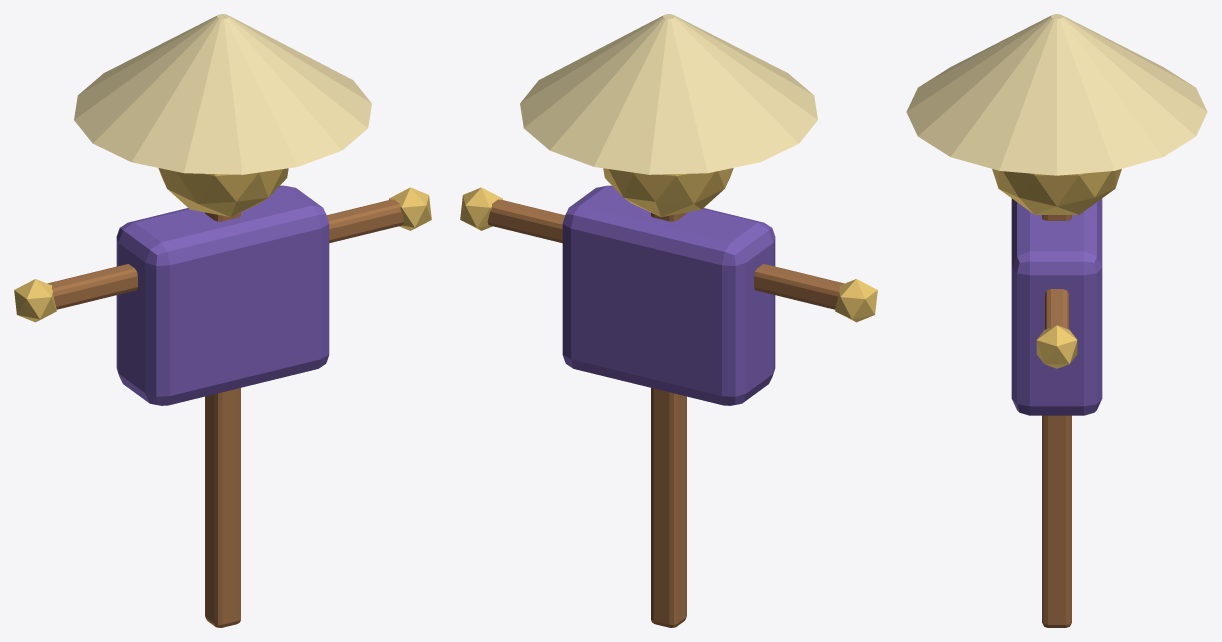
Rendered from bu-nhin.glb.
3 views of the same model, side by side, from view 1: azimuth 30°, elevation 25°; view 2: azimuth 150°, elevation 25°; view 3: azimuth 270°, elevation 25° (orthographic).
Parts seen in each view (by area): view 1: bu-nhin-2, bu-nhin-6, bu-nhin-0, bu-nhin-1, bu-nhin-5, bu-nhin-3, bu-nhin-4; view 2: bu-nhin-2, bu-nhin-6, bu-nhin-0, bu-nhin-1, bu-nhin-5, bu-nhin-3, bu-nhin-4; view 3: bu-nhin-6, bu-nhin-2, bu-nhin-0, bu-nhin-5, bu-nhin-4, bu-nhin-1.
Boxes of the visible parts, x1=… form: bu-nhin-2: x1=116, y1=185, x2=329, y2=405; bu-nhin-6: x1=74, y1=14, x2=371, y2=174; bu-nhin-0: x1=205, y1=212, x2=240, y2=627; bu-nhin-1: x1=47, y1=199, x2=404, y2=309; bu-nhin-5: x1=158, y1=168, x2=288, y2=217; bu-nhin-3: x1=14, y1=279, x2=56, y2=322; bu-nhin-4: x1=389, y1=187, x2=431, y2=230; bu-nhin-2: x1=562, y1=185, x2=775, y2=405; bu-nhin-6: x1=520, y1=14, x2=817, y2=174; bu-nhin-0: x1=651, y1=212, x2=686, y2=627; bu-nhin-1: x1=487, y1=199, x2=844, y2=309; bu-nhin-5: x1=603, y1=168, x2=733, y2=217; bu-nhin-3: x1=835, y1=279, x2=877, y2=322; bu-nhin-4: x1=460, y1=187, x2=502, y2=230; bu-nhin-6: x1=906, y1=14, x2=1207, y2=175; bu-nhin-2: x1=1011, y1=198, x2=1102, y2=415; bu-nhin-0: x1=1042, y1=215, x2=1071, y2=627; bu-nhin-5: x1=992, y1=169, x2=1121, y2=214; bu-nhin-4: x1=1036, y1=325, x2=1077, y2=368; bu-nhin-1: x1=1045, y1=289, x2=1068, y2=329.
Bounding box in the file's own units: 1.58 × 2.22 × 1.
